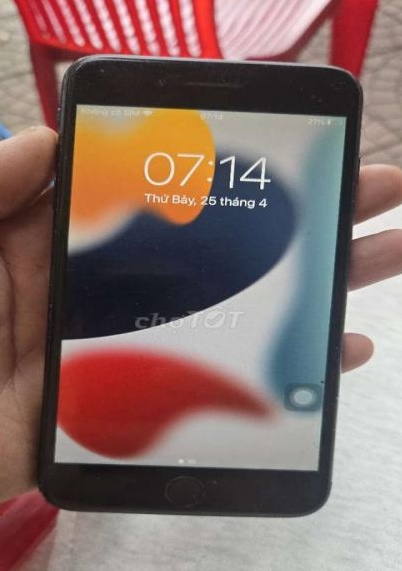scratch: (272, 70, 354, 111), (189, 492, 326, 513), (53, 70, 76, 106), (118, 50, 172, 65), (89, 58, 110, 75), (205, 473, 221, 486)
